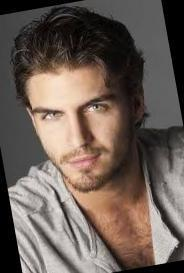Sober: (30, 72, 124, 181)
